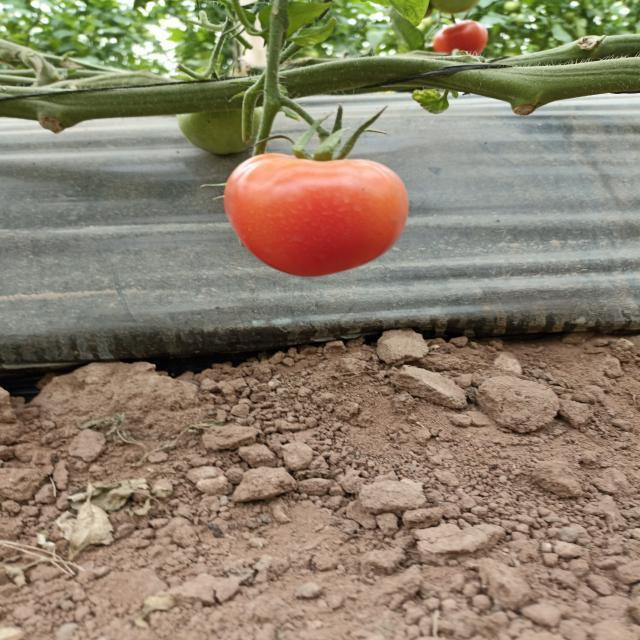Ripe Tomato: (222, 148, 416, 280), (435, 16, 493, 68)
Unripe Tomato: (178, 94, 266, 158), (429, 0, 474, 15)
